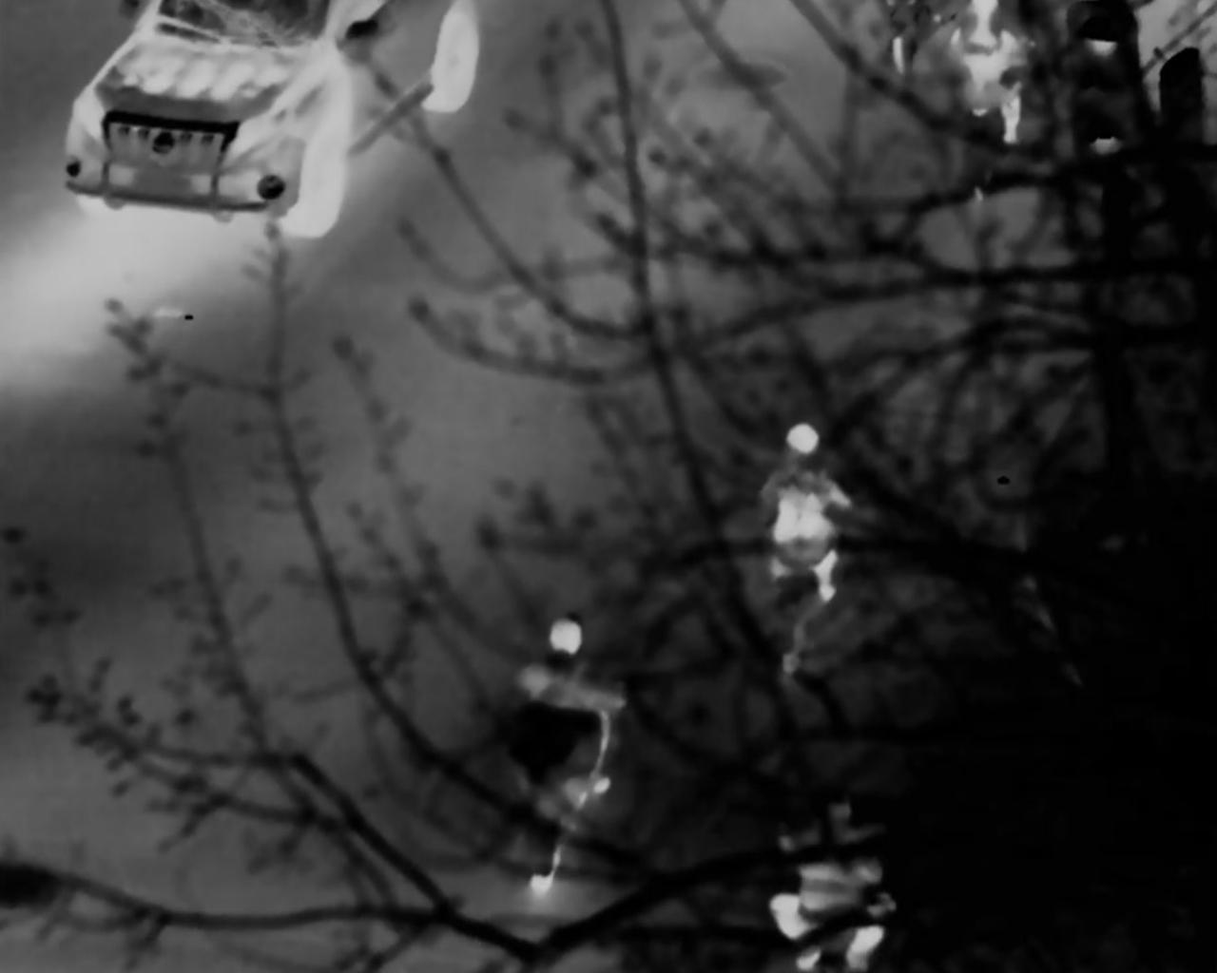person: (511, 619, 625, 827), (771, 799, 895, 967), (760, 421, 845, 610)
